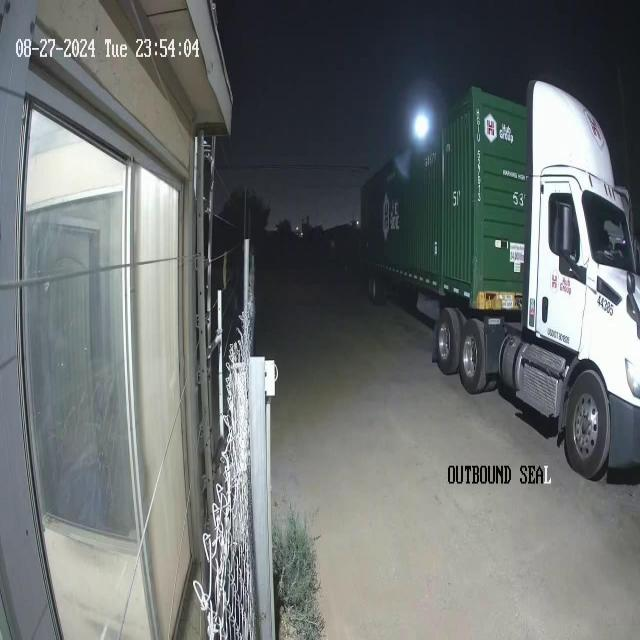TRUCK_CONTAINER: (359, 77, 639, 481)
